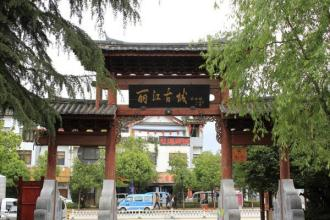chinese: (126, 85, 196, 109)
